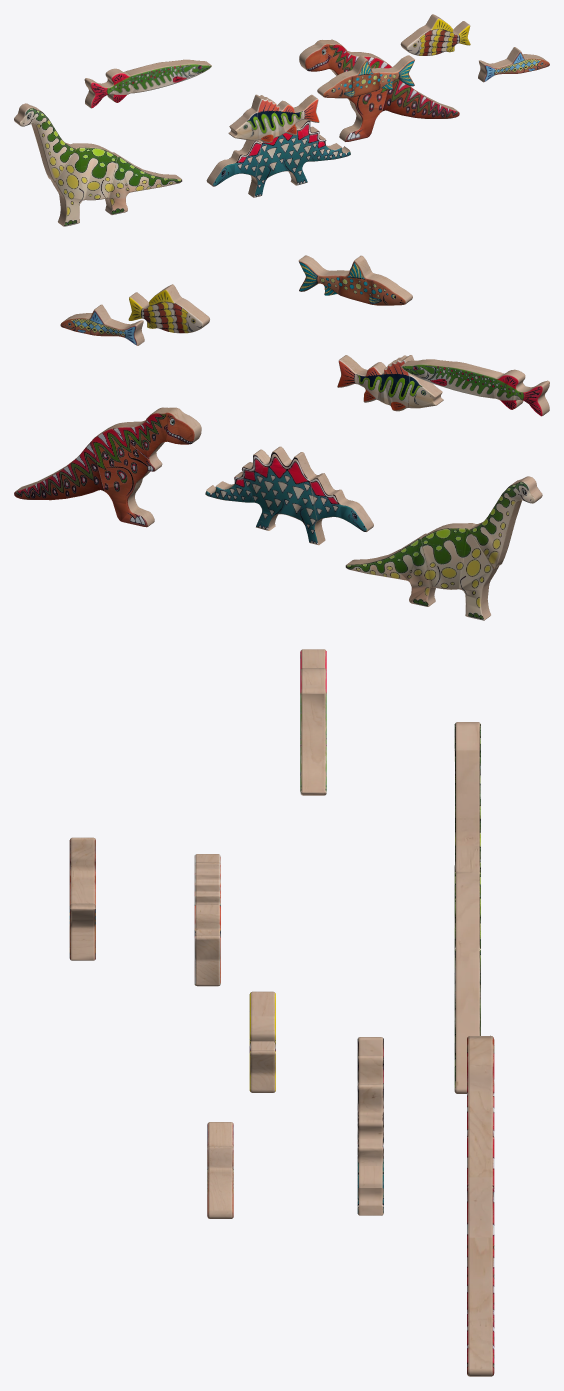
File: dop-opt.glb
The picture shows the model from 3 angles, top to bottom: view 1: azimuth 30°, elevation 25°; view 2: azimuth 150°, elevation 25°; view 3: azimuth 270°, elevation 25°; orthographic projection. The views are drawn at different scales.
Visible parts, largest first — view 1: dyn-3, dyn-1, dyn-2, fish-5, fish-1, fish-3, fish-2, fish-4; view 2: dyn-3, dyn-1, dyn-2, fish-5, fish-1, fish-3, fish-2, fish-4; view 3: dyn-1, dyn-3, dyn-2, fish-5, fish-1, fish-3, fish-2, fish-4.
Boxes of the visible parts, x1,y1,x2,y2 form: dyn-3: (14, 103, 182, 226); dyn-1: (299, 39, 459, 141); dyn-2: (206, 119, 350, 197); fish-5: (84, 59, 211, 108); fish-1: (228, 94, 319, 142); fish-3: (317, 55, 414, 98); fish-2: (400, 14, 470, 55); fish-4: (478, 47, 549, 82); dyn-3: (345, 476, 542, 620); dyn-1: (14, 407, 201, 527); dyn-2: (205, 446, 373, 545); fish-5: (401, 359, 549, 416); fish-1: (337, 355, 443, 411); fish-3: (298, 255, 412, 305); fish-2: (128, 284, 209, 333); fish-4: (60, 304, 144, 345); dyn-1: (467, 1035, 494, 1376); dyn-3: (454, 722, 480, 1093); dyn-2: (357, 1037, 383, 1215); fish-5: (300, 649, 326, 795); fish-1: (194, 854, 220, 986); fish-3: (69, 837, 95, 960); fish-2: (249, 991, 275, 1092); fish-4: (207, 1122, 233, 1218).
Size of the model in its own units: 103 by 39.34 by 40.27.
Materials: 8 (8 with a texture image).
